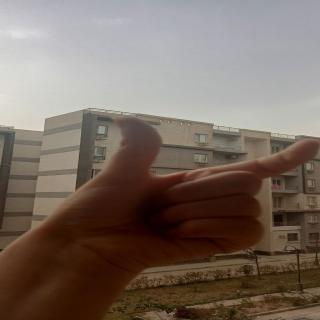NOON: (52, 112, 320, 264)
